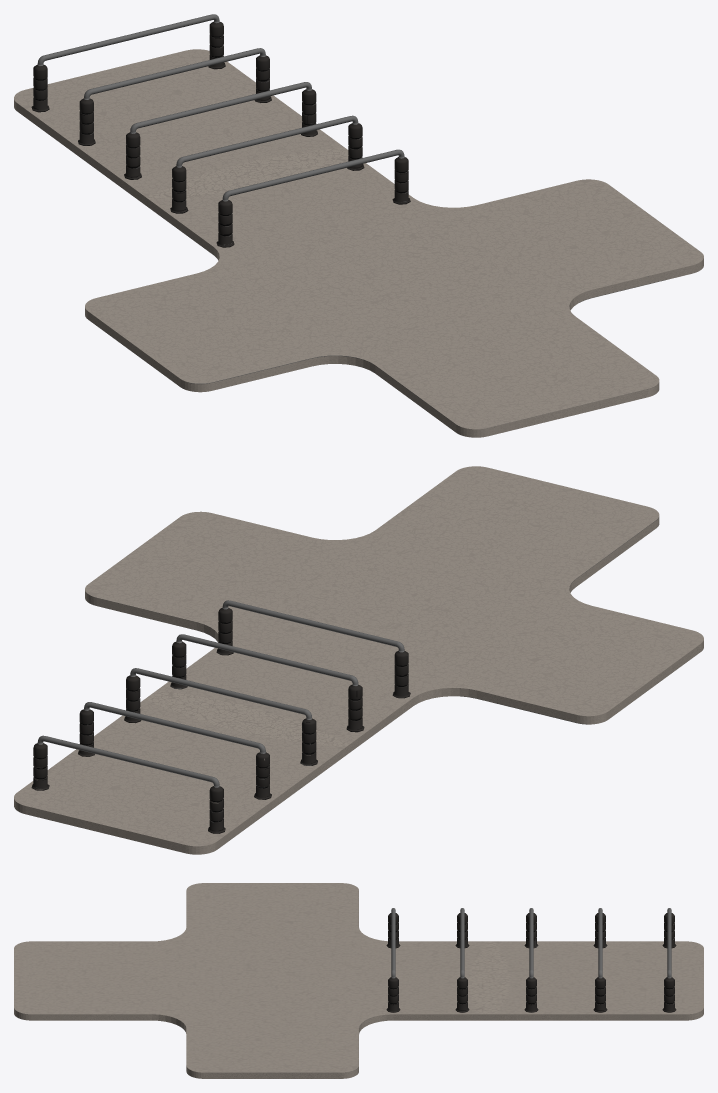
Rendered from SSCDesertFriendlyBase1.fbx.
The picture shows the model from 3 angles, top to bottom: view 1: azimuth 30°, elevation 25°; view 2: azimuth 150°, elevation 25°; view 3: azimuth 270°, elevation 25°; orthographic projection. The views are drawn at different scales.
Parts seen in each view (by area): view 1: SSCFriendlyBase1; view 2: SSCFriendlyBase1; view 3: SSCFriendlyBase1.
Boxes of the visible parts, left/top/right/bottom form: SSCFriendlyBase1: left=14, top=14, right=703, bottom=437; SSCFriendlyBase1: left=14, top=466, right=703, bottom=854; SSCFriendlyBase1: left=14, top=883, right=703, bottom=1078.
Bounding box in the file's own units: 65000 × 7220 × 100000.
